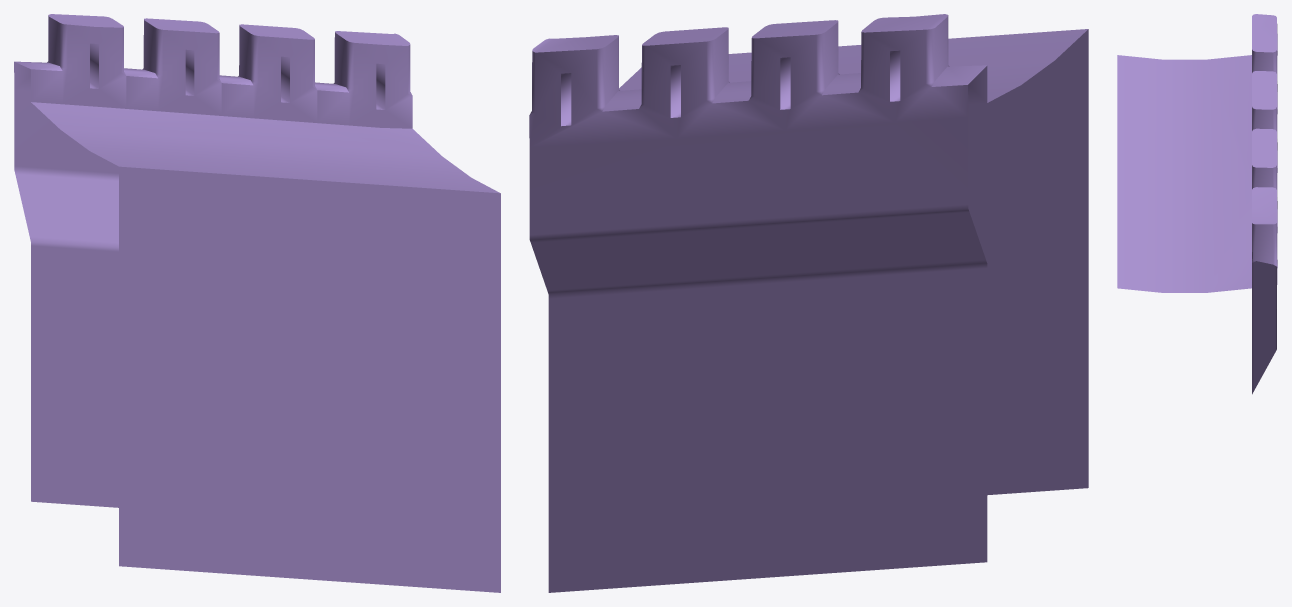
Rendered from wall_outer_10m_up.fbx.
3 renders of one model, left to right at view 1: azimuth 30°, elevation 25°; view 2: azimuth 150°, elevation 25°; view 3: azimuth 270°, elevation 25°, orthographic. The views are drawn at different scales.
Visible parts, largest first — view 1: Cube.097; view 2: Cube.097; view 3: Cube.097.
Part boxes in pixels (x1=…): Cube.097: x1=14, y1=14, x2=500, y2=592; Cube.097: x1=529, y1=14, x2=1088, y2=592; Cube.097: x1=1117, y1=14, x2=1277, y2=394.
Bounding box in the file's own units: 10 × 14.74 × 4.76.
